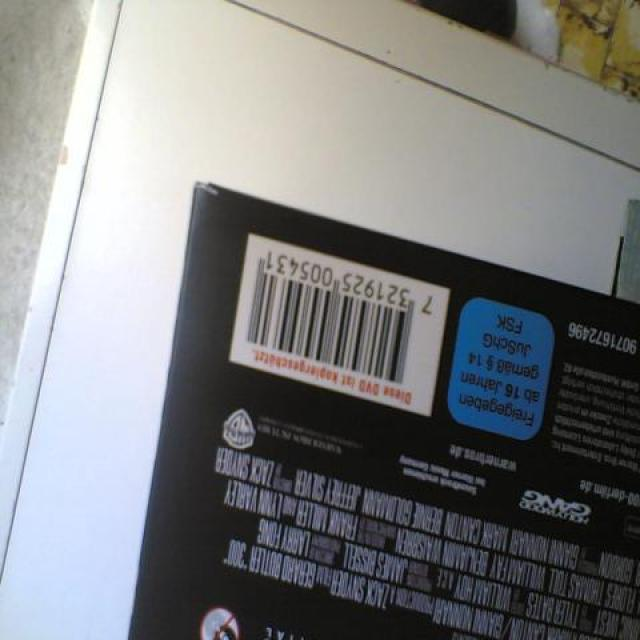Barcode: (231, 232, 452, 421)
